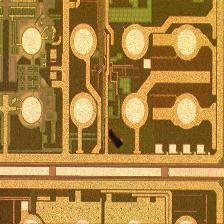PARTICLE: (101, 126, 129, 154)
